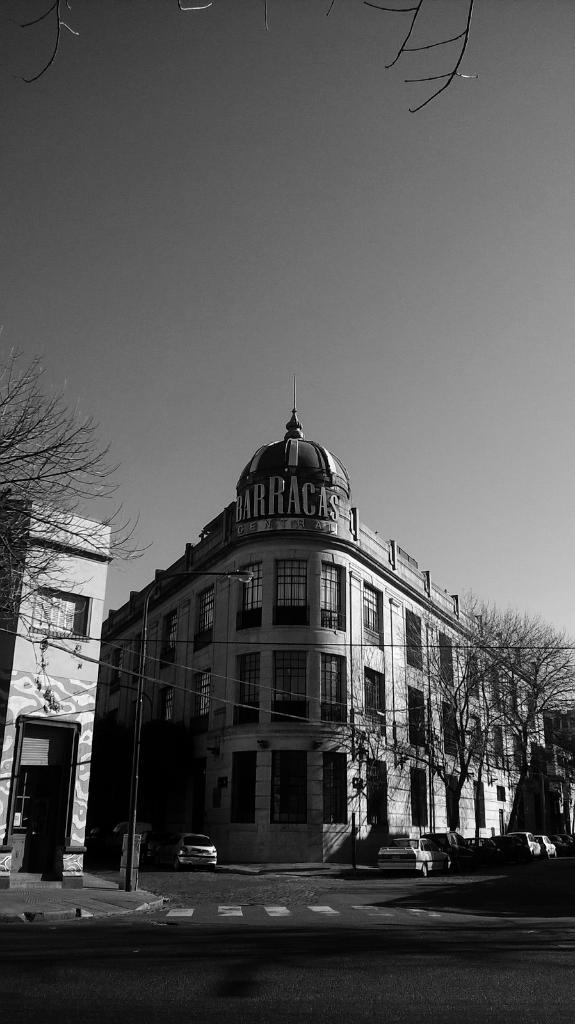Tree: (330, 595, 573, 878), (0, 344, 143, 735)
